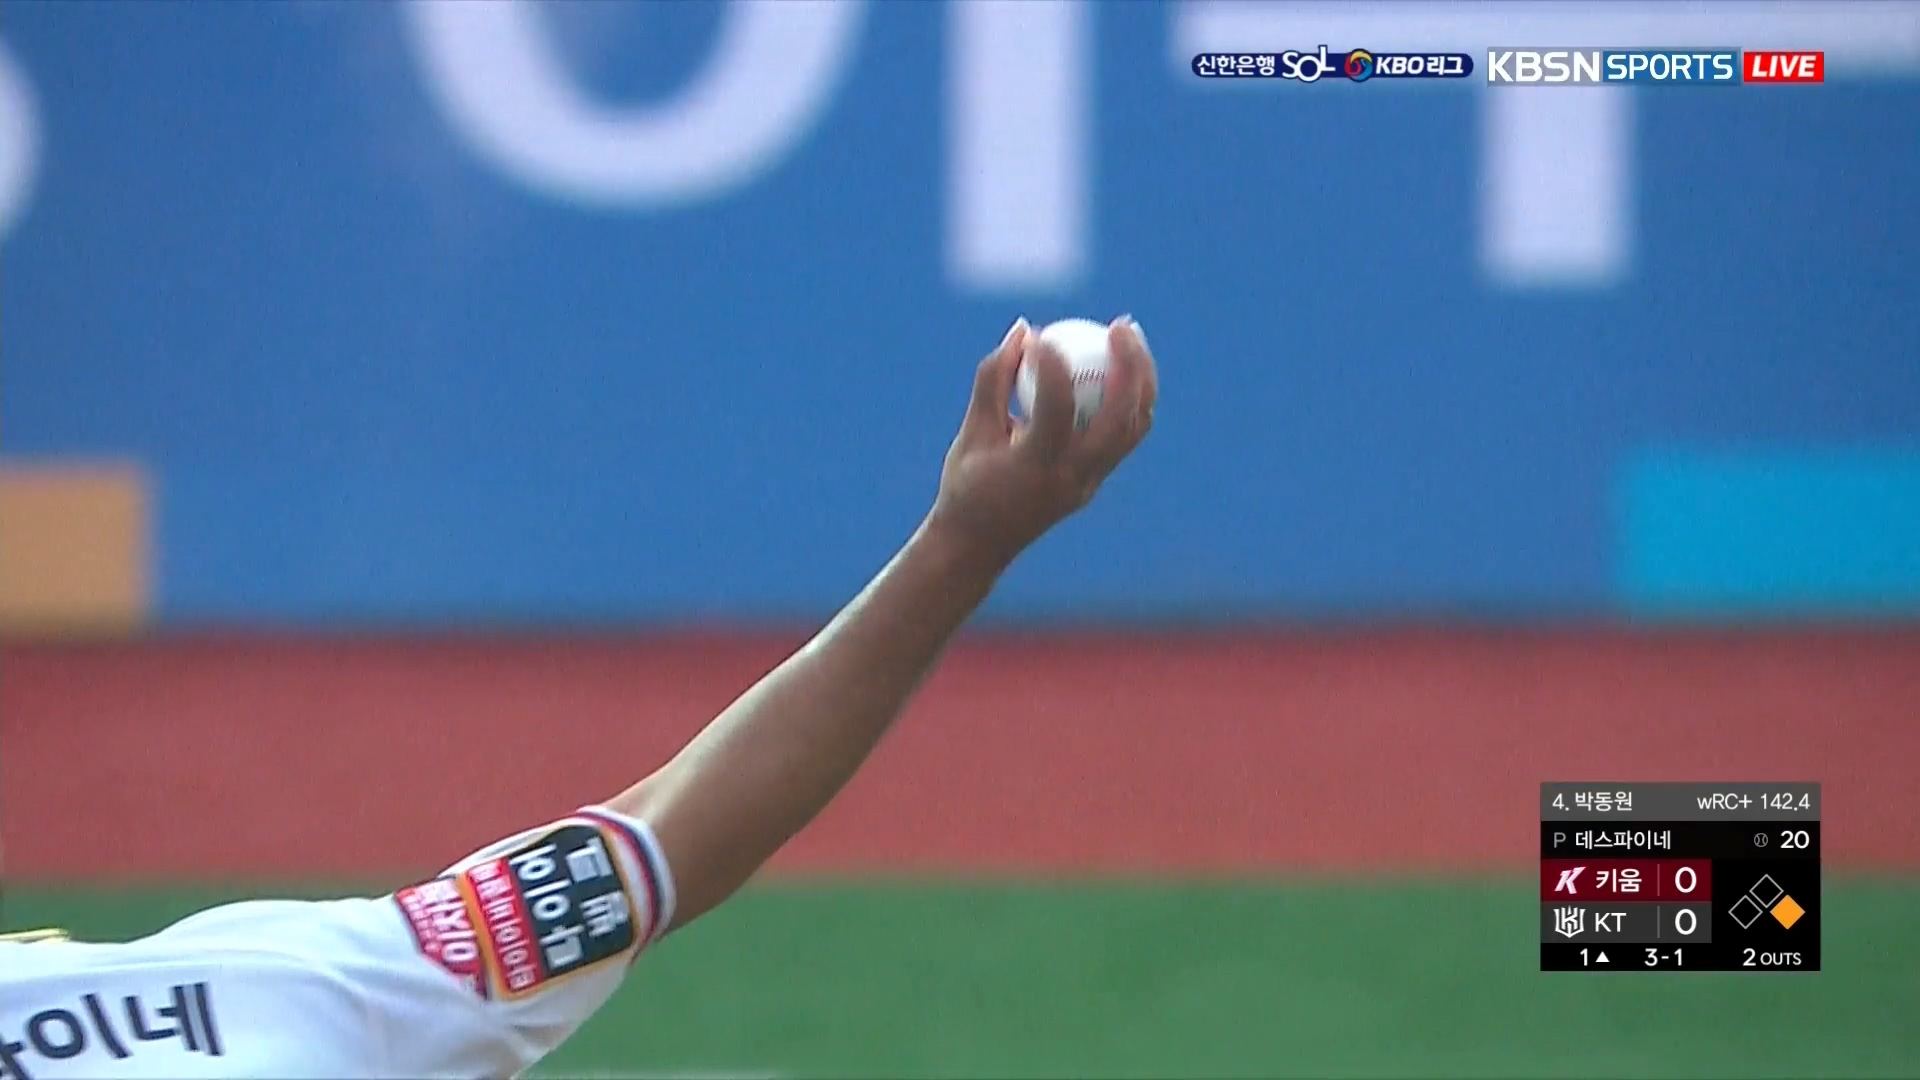zoomin_hand: (645, 313, 1166, 935)
